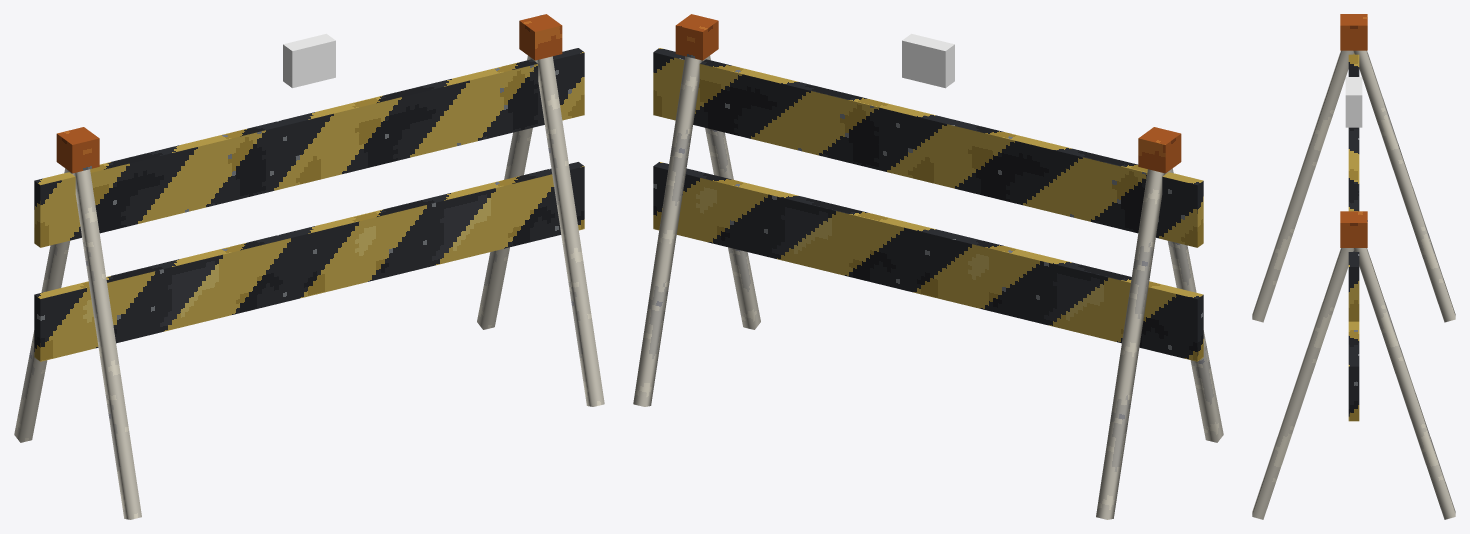
Rendered from SP_RoadBarrier.obj.
3 views of the same model, side by side, from view 1: azimuth 30°, elevation 25°; view 2: azimuth 150°, elevation 25°; view 3: azimuth 270°, elevation 25° (orthographic). The views are drawn at different scales.
Parts seen in each view (by area): view 1: SP_RoadBarrier_Mesh_M_Town_HazardStripe, SP_RoadBarrier_Mesh_M_Town_PaintWhite, SP_RoadBarrier_Mesh_M_Town_PaintOrange, SP_RoadBarrier_Mesh_M_Town_LensAmber; view 2: SP_RoadBarrier_Mesh_M_Town_HazardStripe, SP_RoadBarrier_Mesh_M_Town_PaintWhite, SP_RoadBarrier_Mesh_M_Town_PaintOrange, SP_RoadBarrier_Mesh_M_Town_LensAmber; view 3: SP_RoadBarrier_Mesh_M_Town_PaintWhite, SP_RoadBarrier_Mesh_M_Town_HazardStripe, SP_RoadBarrier_Mesh_M_Town_PaintOrange, SP_RoadBarrier_Mesh_M_Town_LensAmber.
Part boxes in pixels (bbox=[...]): SP_RoadBarrier_Mesh_M_Town_HazardStripe: bbox=[34, 48, 584, 361]; SP_RoadBarrier_Mesh_M_Town_PaintWhite: bbox=[14, 55, 604, 519]; SP_RoadBarrier_Mesh_M_Town_PaintOrange: bbox=[56, 14, 562, 173]; SP_RoadBarrier_Mesh_M_Town_LensAmber: bbox=[283, 33, 335, 88]; SP_RoadBarrier_Mesh_M_Town_HazardStripe: bbox=[653, 48, 1203, 361]; SP_RoadBarrier_Mesh_M_Town_PaintWhite: bbox=[633, 55, 1223, 519]; SP_RoadBarrier_Mesh_M_Town_PaintOrange: bbox=[675, 14, 1181, 173]; SP_RoadBarrier_Mesh_M_Town_LensAmber: bbox=[902, 33, 954, 88]; SP_RoadBarrier_Mesh_M_Town_PaintWhite: bbox=[1252, 50, 1455, 519]; SP_RoadBarrier_Mesh_M_Town_HazardStripe: bbox=[1348, 53, 1359, 421]; SP_RoadBarrier_Mesh_M_Town_PaintOrange: bbox=[1340, 14, 1367, 247]; SP_RoadBarrier_Mesh_M_Town_LensAmber: bbox=[1345, 77, 1362, 127].
Size of the model in its own units: 2 by 1.34 by 0.7406.
Materials: 4 (3 with a texture image).
